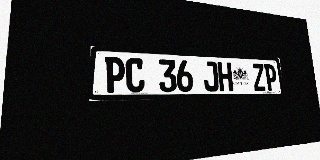3: (159, 59, 177, 92)
6: (176, 60, 193, 92)
C: (126, 58, 145, 93)
H: (217, 62, 233, 91)
J: (203, 61, 219, 92)
P: (104, 57, 125, 93), (264, 64, 278, 91)
Z: (252, 63, 266, 91)
